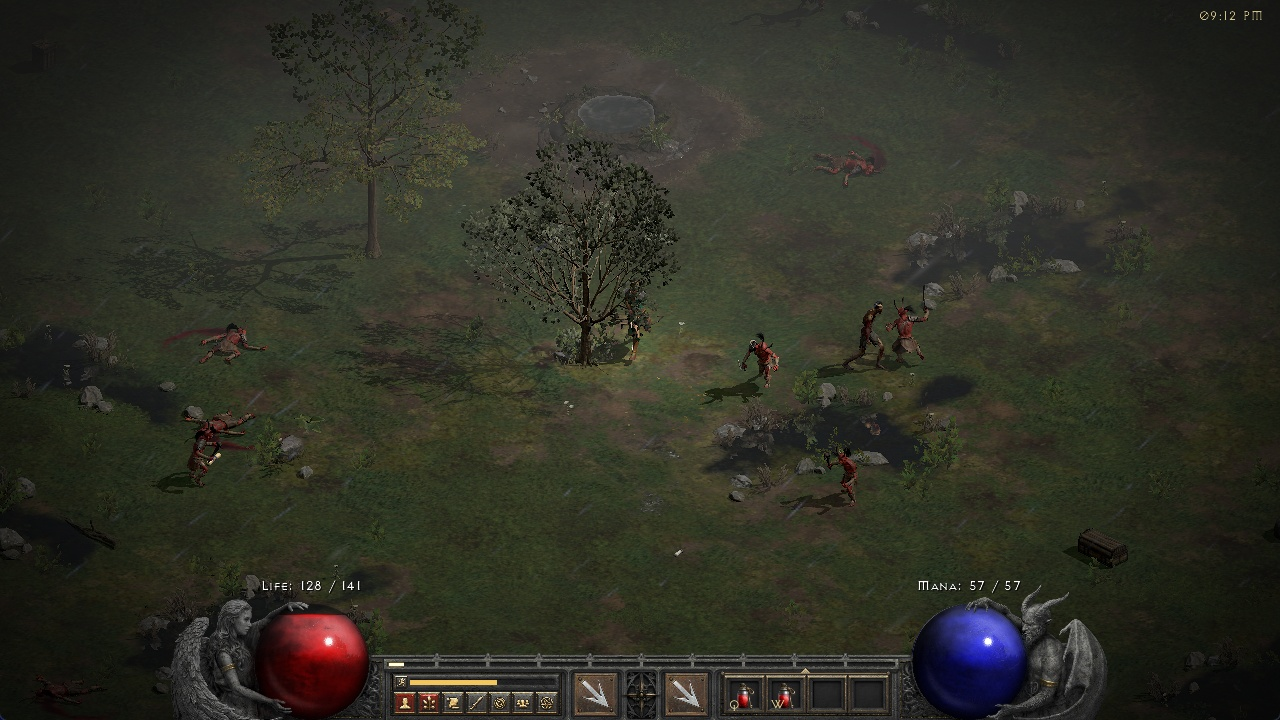fallen: (885, 291, 930, 368), (732, 331, 787, 394), (817, 441, 867, 504), (181, 418, 222, 486)
